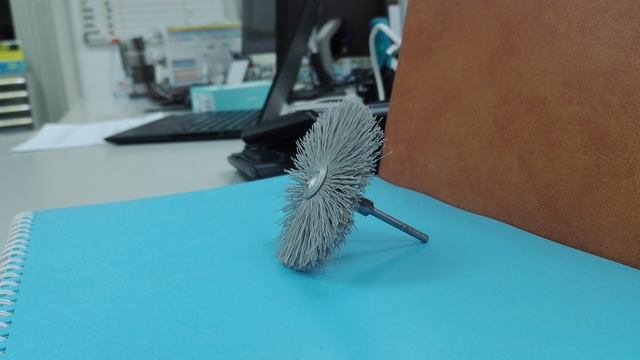TOOL: (237, 76, 445, 279), (286, 74, 474, 280), (266, 98, 437, 292)
